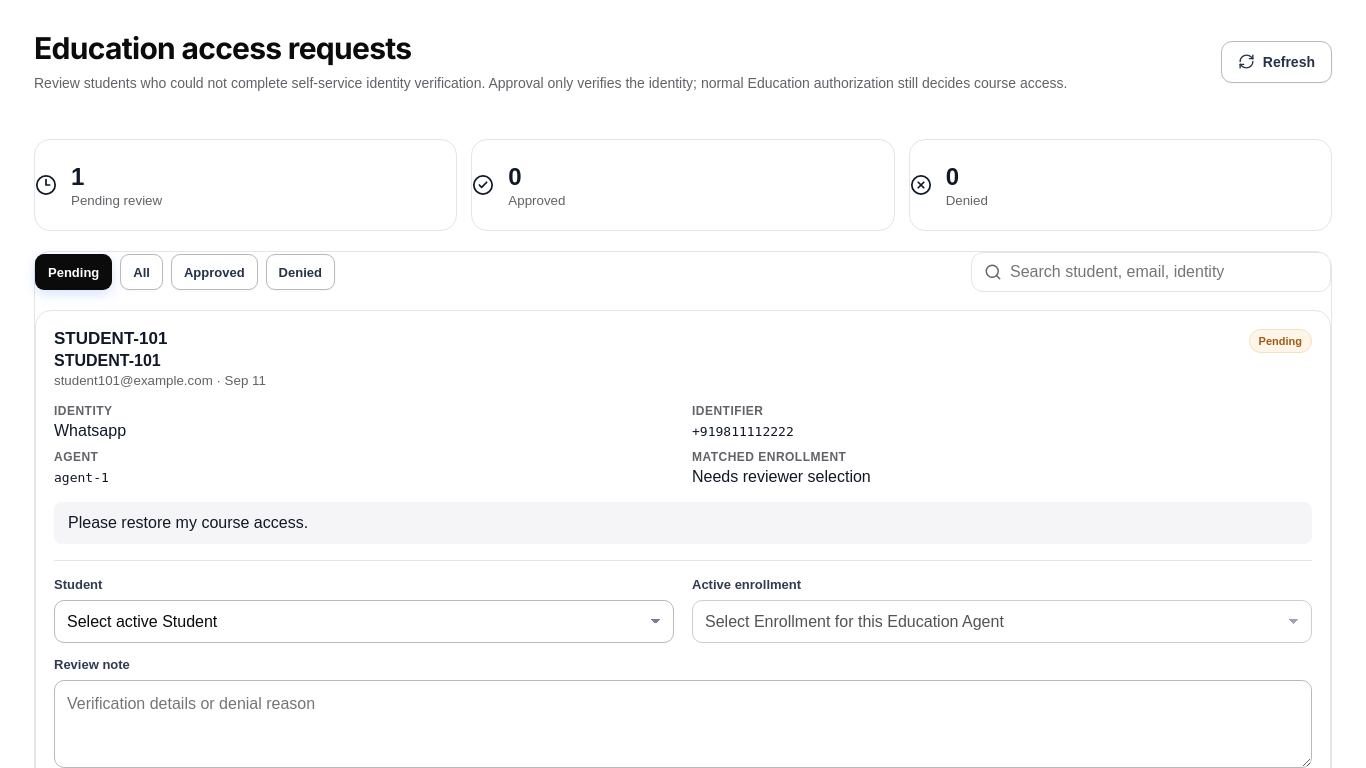
it: EducationAccessRequestsPage › requires an active Student and Enrollment for the same Education Agent before approval
Expected: the 1st text "STUDENT-101" is shown, [54,329,167,348]
Select "STUDENT-101 · Asha Student" in the dropdown labelled "Student". click: (364, 622)
box: [54,600,674,643]
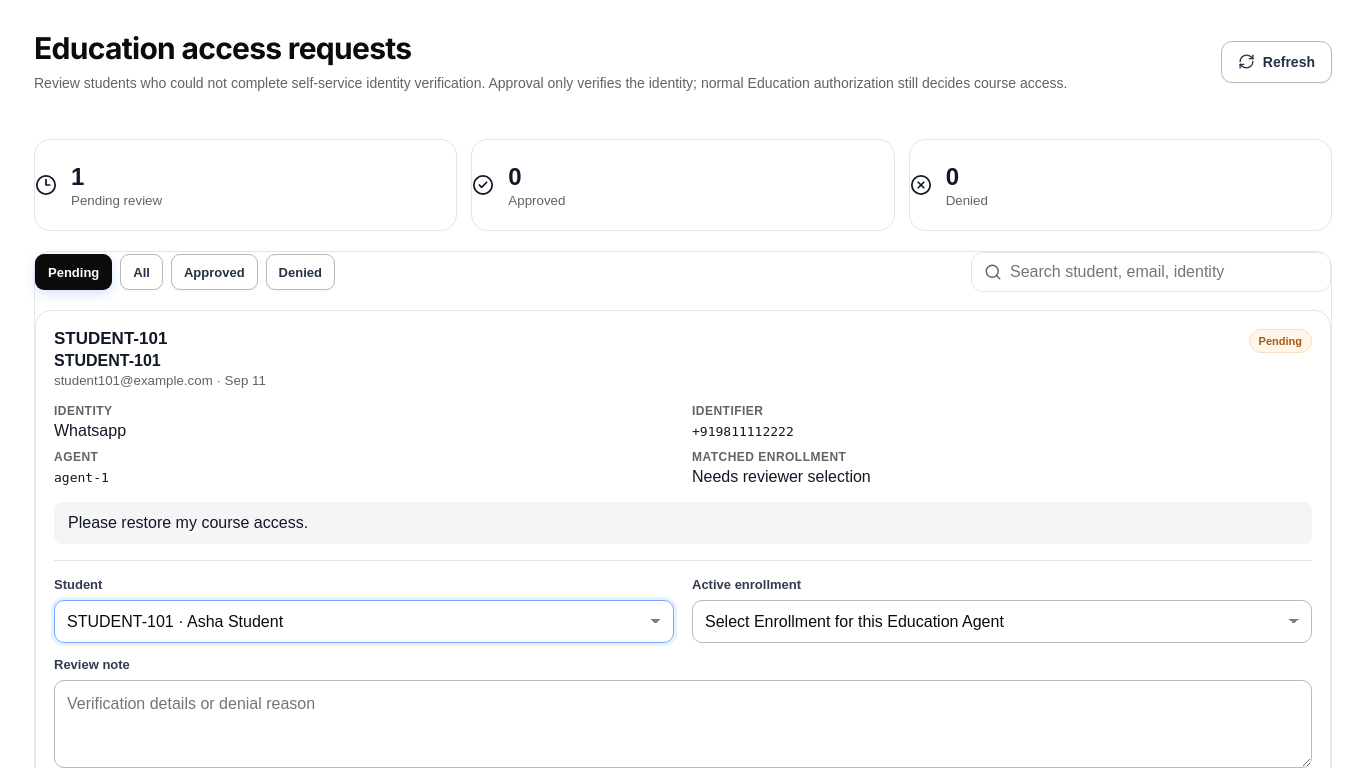
Select "enrollment-1 · active" in the dropdown labelled "Active enrollment". click: (1002, 622)
box: [692,600,1312,643]
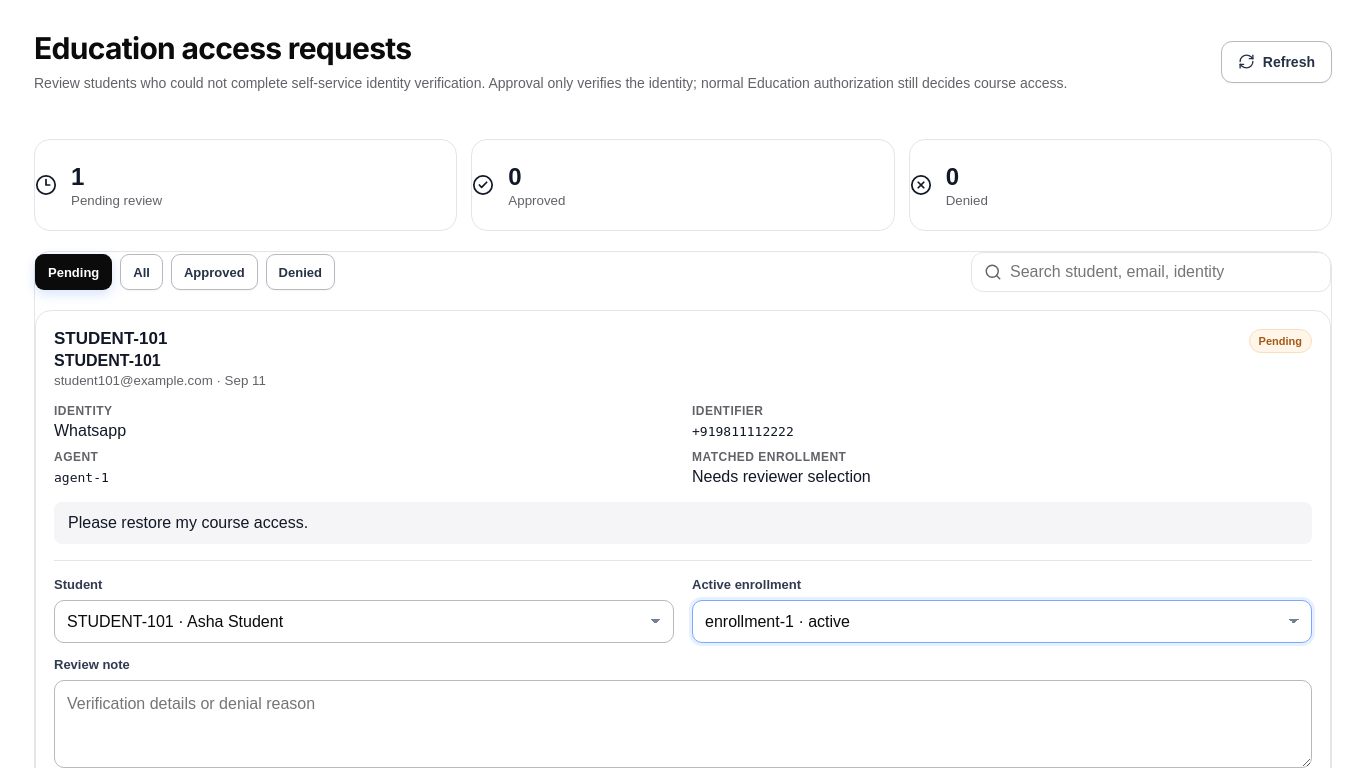
Type "Matched against academy records." into the text box labelled "Review note". click: (683, 724)
box: [54,680,1312,767]
(page scrolled)
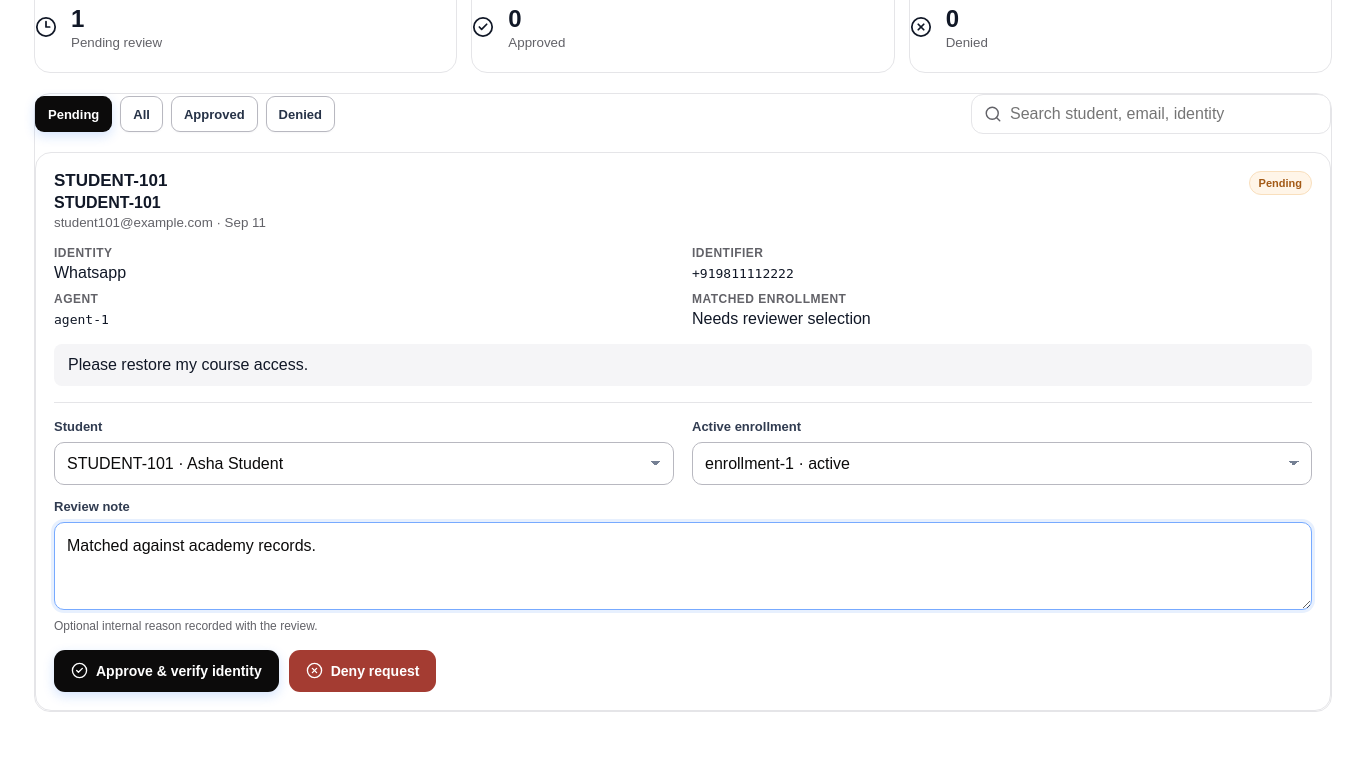
Click the button "Approve & verify identity". click: (166, 671)
box: [54,650,279,692]
(page scrolled)
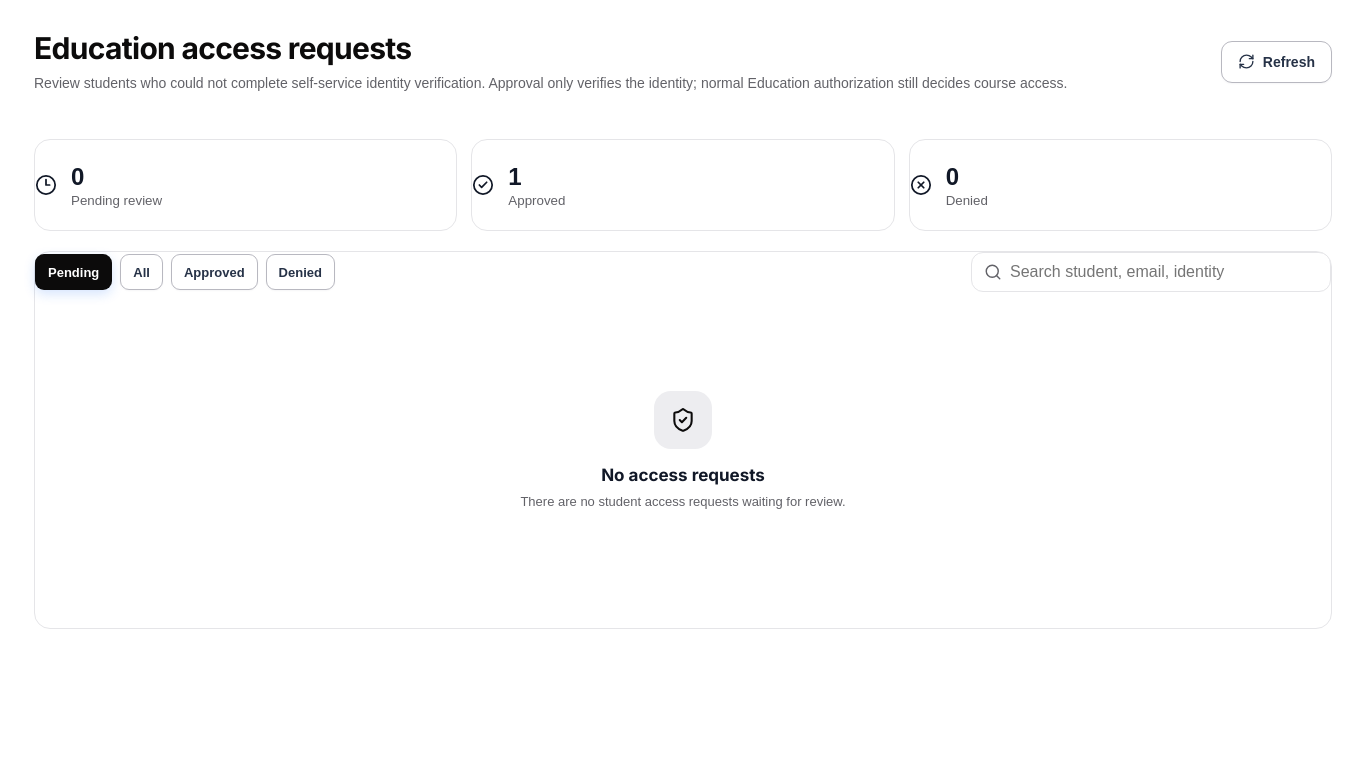
Click the button "All". click: (142, 272)
box: [120,254,163,290]
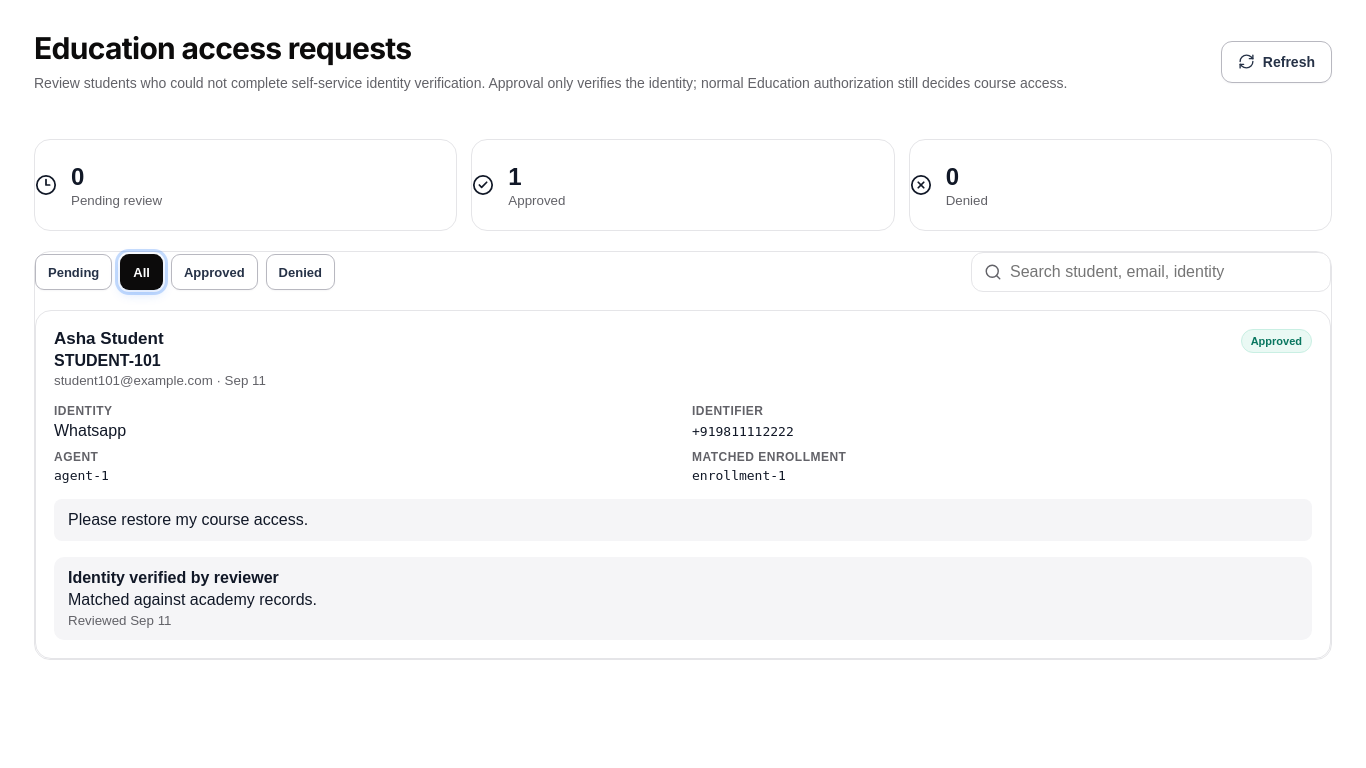
Expected: the text "Identity verified by reviewer" is shown, [68,569,279,586]
